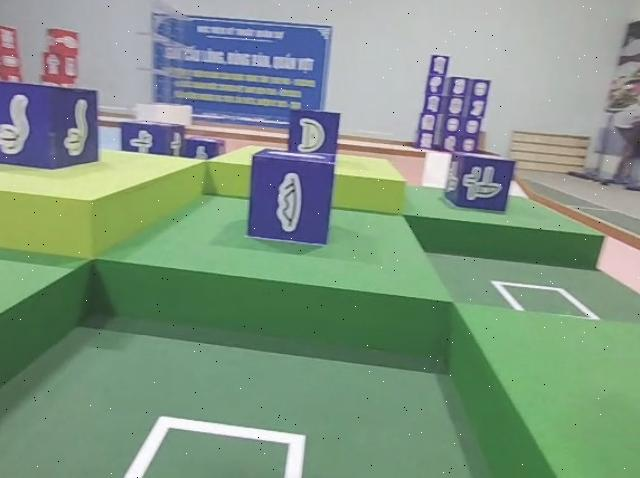R2 Real Blue: (0, 81, 97, 175), (245, 149, 336, 249), (447, 153, 519, 216), (281, 108, 342, 161), (122, 117, 183, 163)
